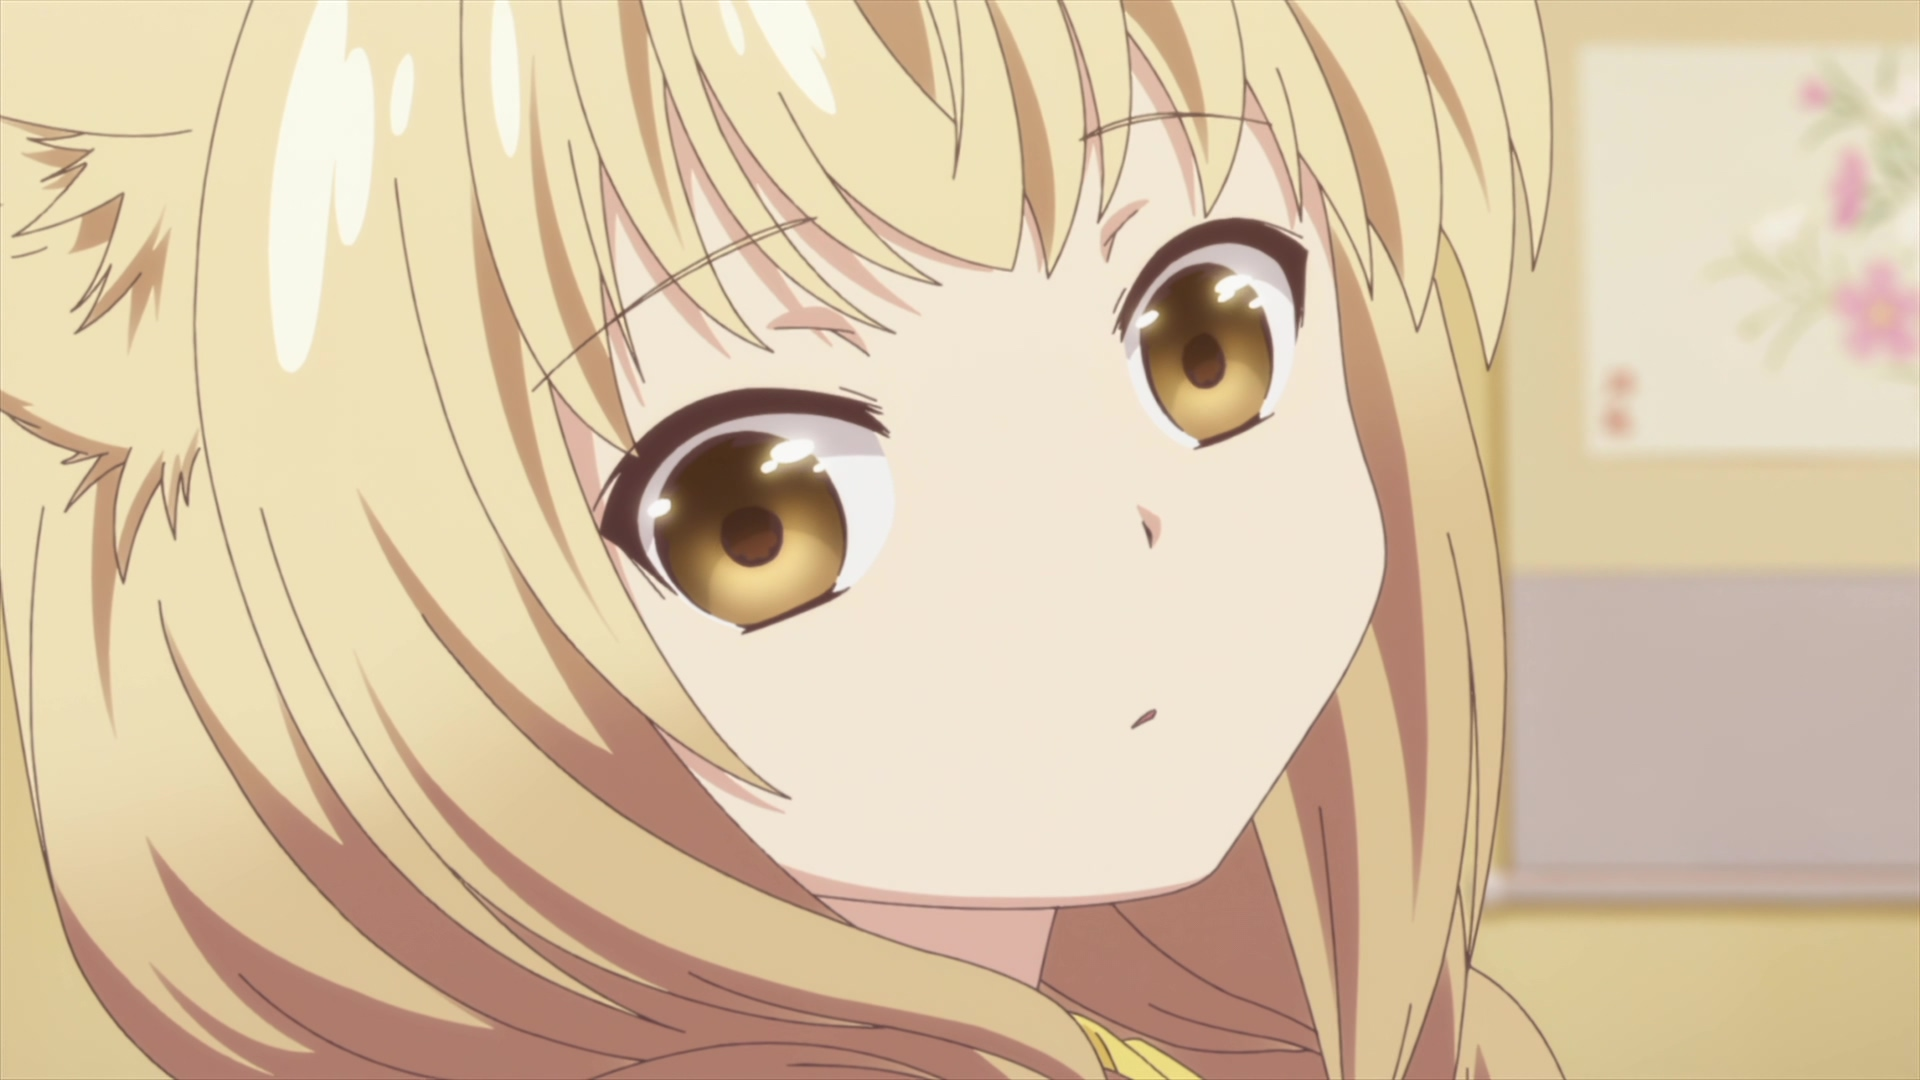柚: (1, 1, 1567, 1080)
